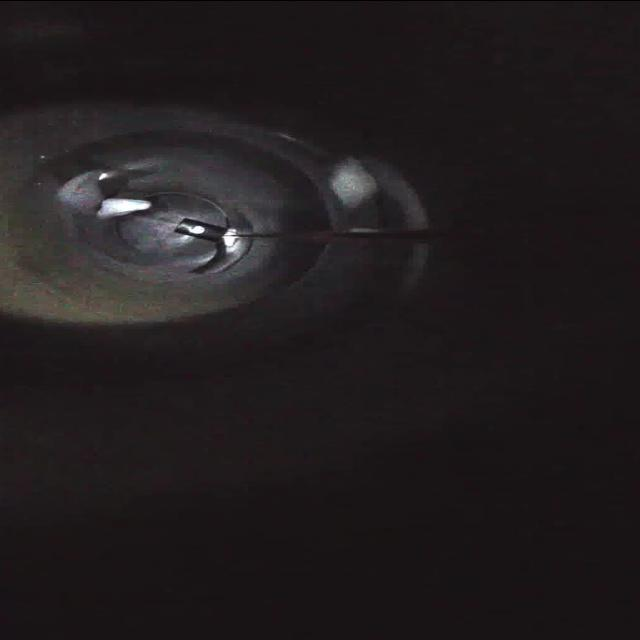impurity: (89, 189, 161, 223)
